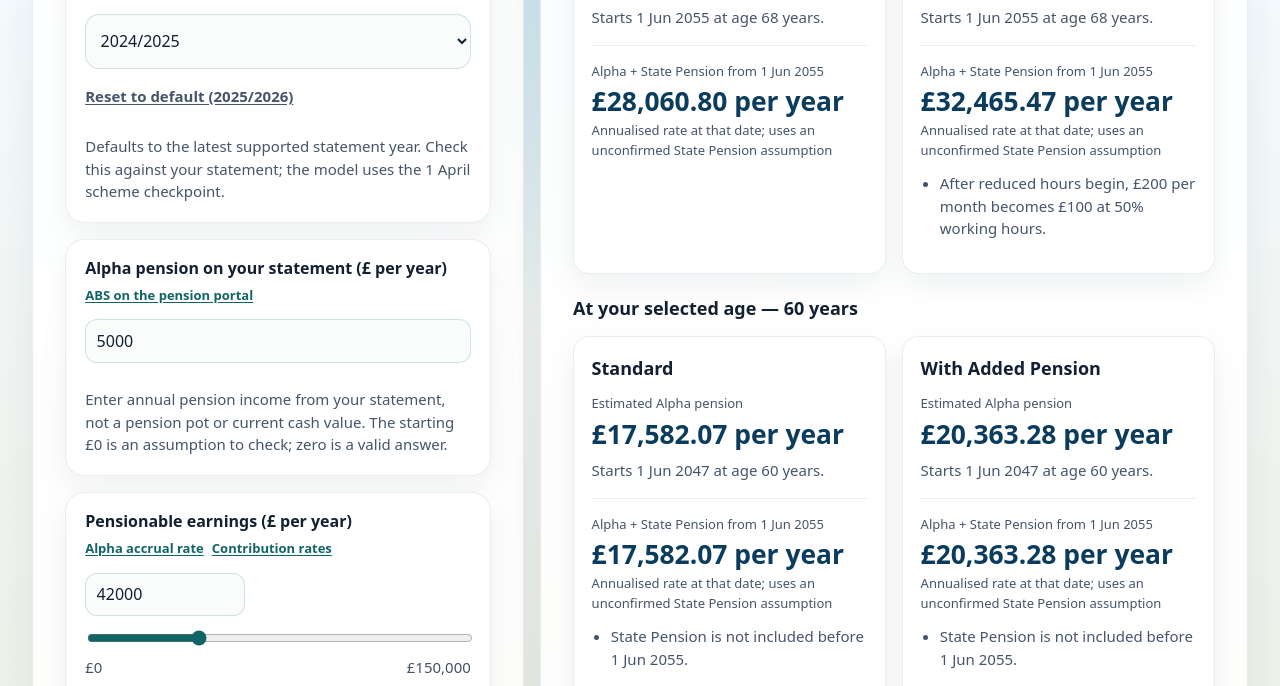
Test case: Quick modeller journey › does not save an invalid amount draft and accepts explicit zero again
(page scrolled)
Clear the number field named "Alpha pension on your statement (£ per year)" at (278, 341), box [85,319,471,363]
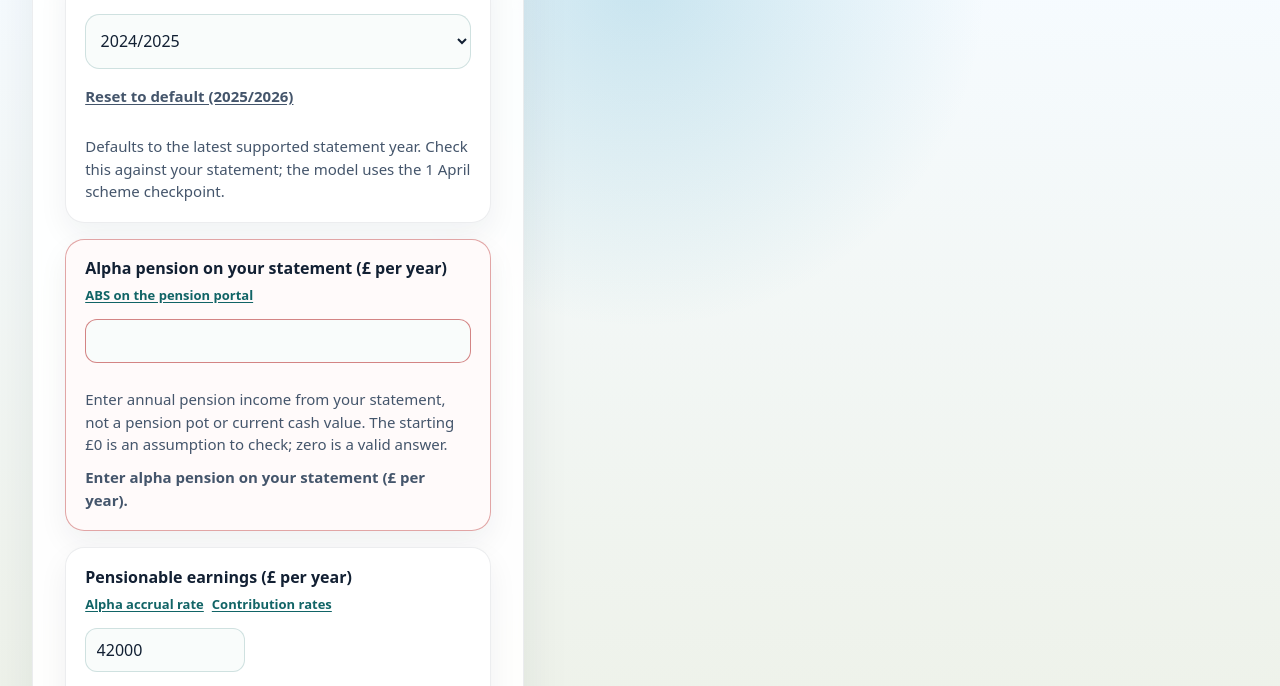
Expected: the text "Saved Locally" is not shown
Type "0" into the number field named "Alpha pension on your statement (£ per year)" at (278, 341), box [85,319,471,363]
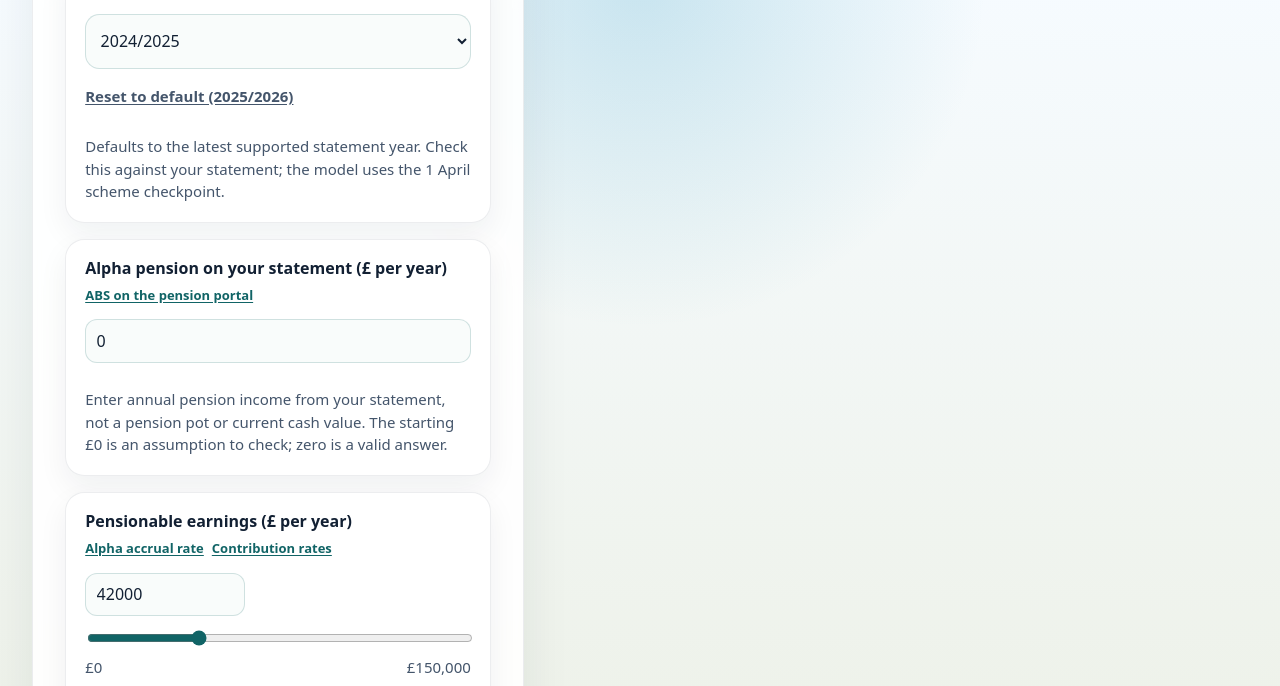
Leave the number field named "Alpha pension on your statement (£ per year)", box [85,319,471,363]
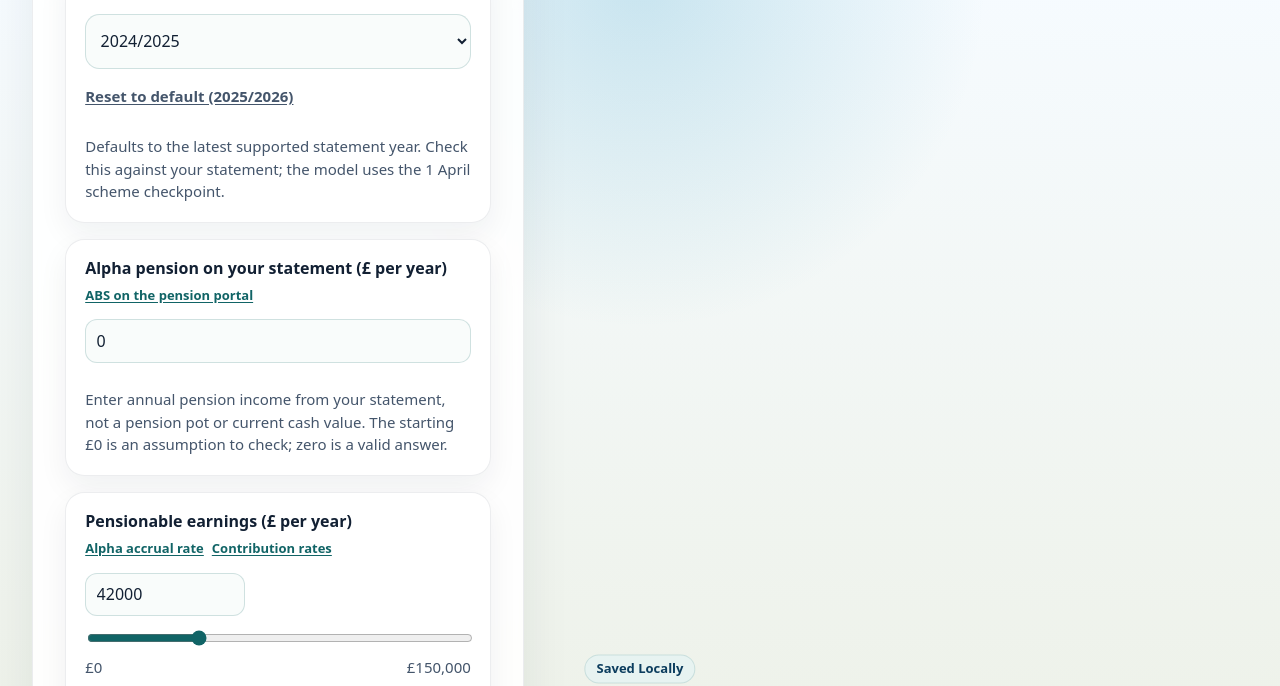
Expected: the text "Saved Locally" is shown, [584,655,696,683]
